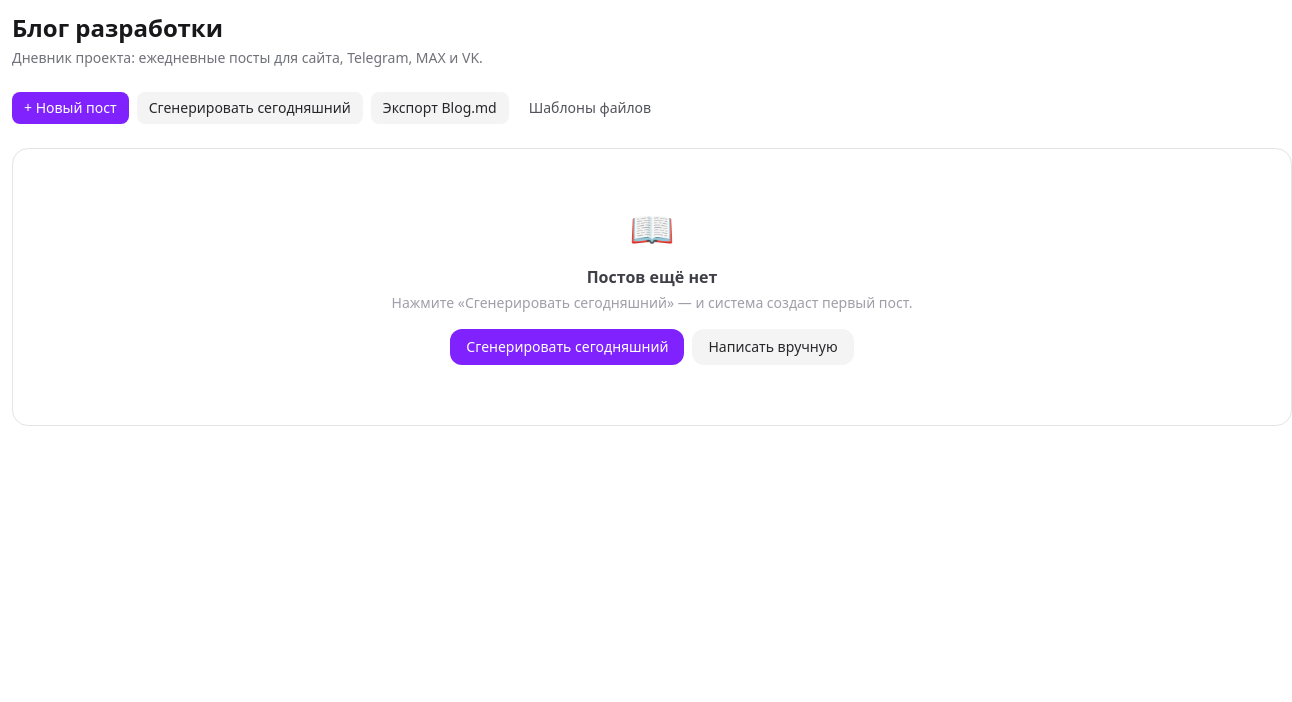
Test: G. Toolbar and scaffold panel › clicking "Шаблоны файлов" shows the scaffold panel
Click the button "Шаблоны файлов" at {"x": 590, "y": 108}, box [517,92,663,124]
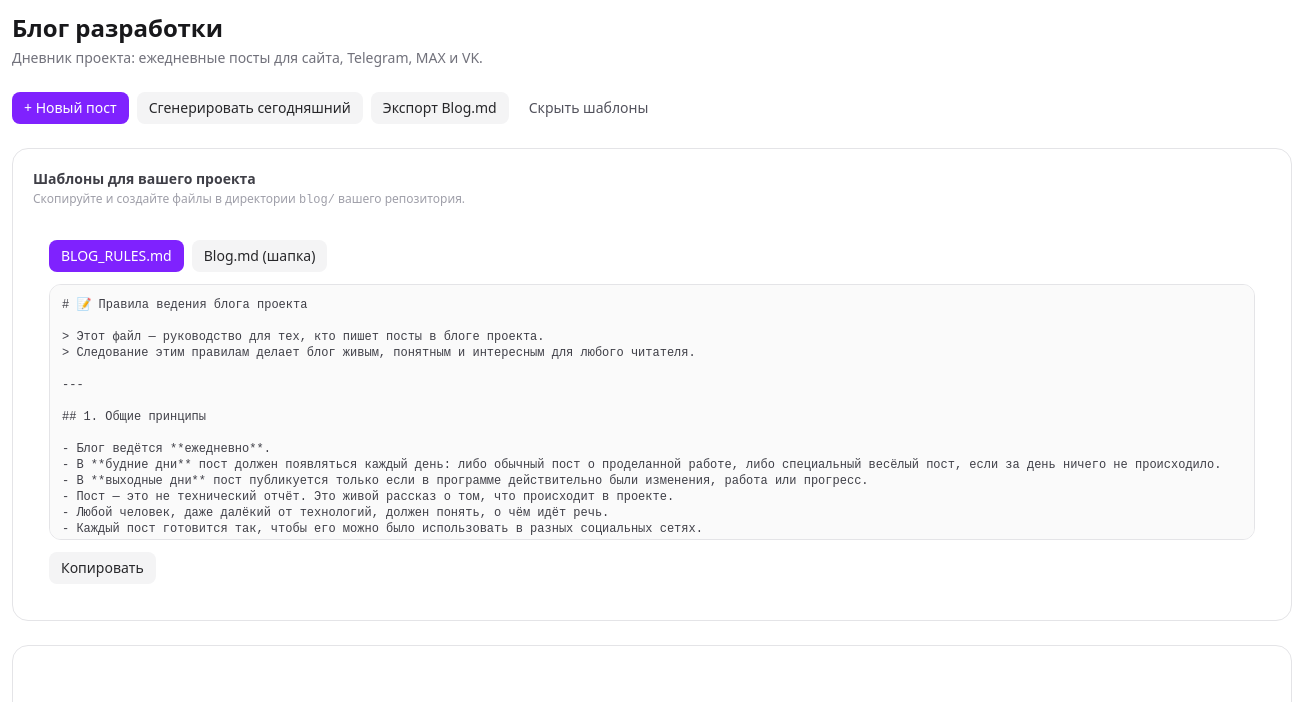
Now the text "Шаблоны для вашего проекта" is shown, box [33,169,256,188]
